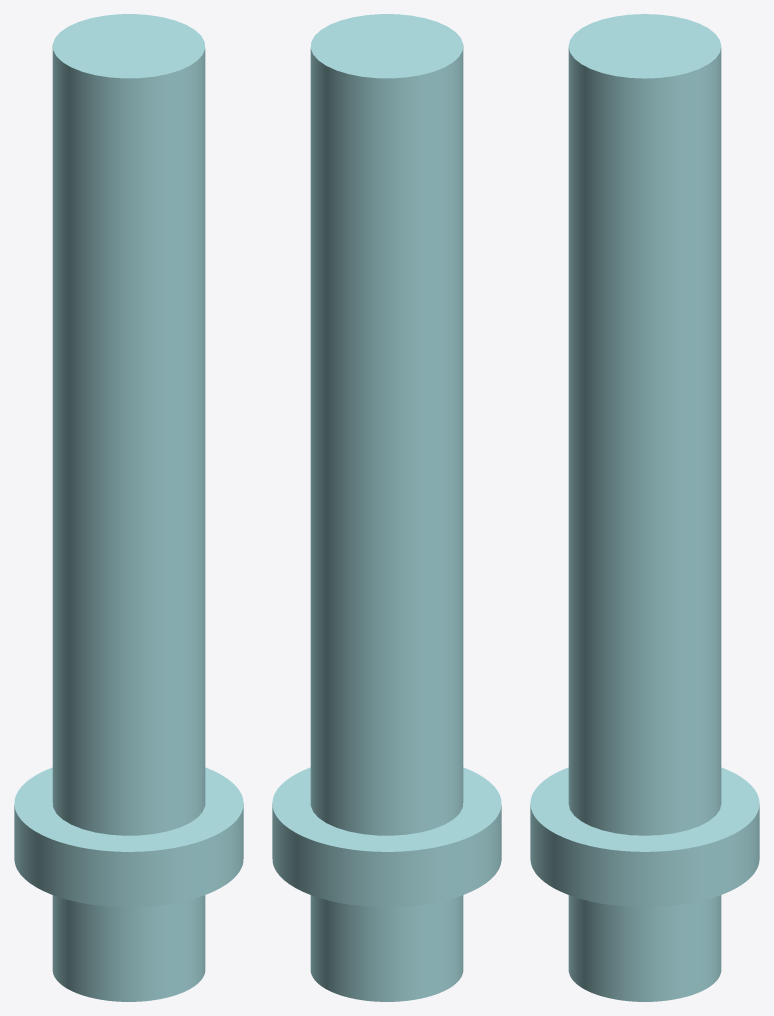
File: light_pipe.glb
3 views of the same model, side by side, from view 1: azimuth 30°, elevation 25°; view 2: azimuth 150°, elevation 25°; view 3: azimuth 270°, elevation 25° (orthographic).
Visible parts, largest first — view 1: light_pipe; view 2: light_pipe; view 3: light_pipe.
Boxes of the visible parts, box(x1,y1,x2,y2) form: light_pipe: box(14, 14, 243, 1001); light_pipe: box(272, 14, 501, 1001); light_pipe: box(530, 14, 759, 1001).
Bounding box in the file's own units: 0.0045 × 0.02 × 0.0045.
